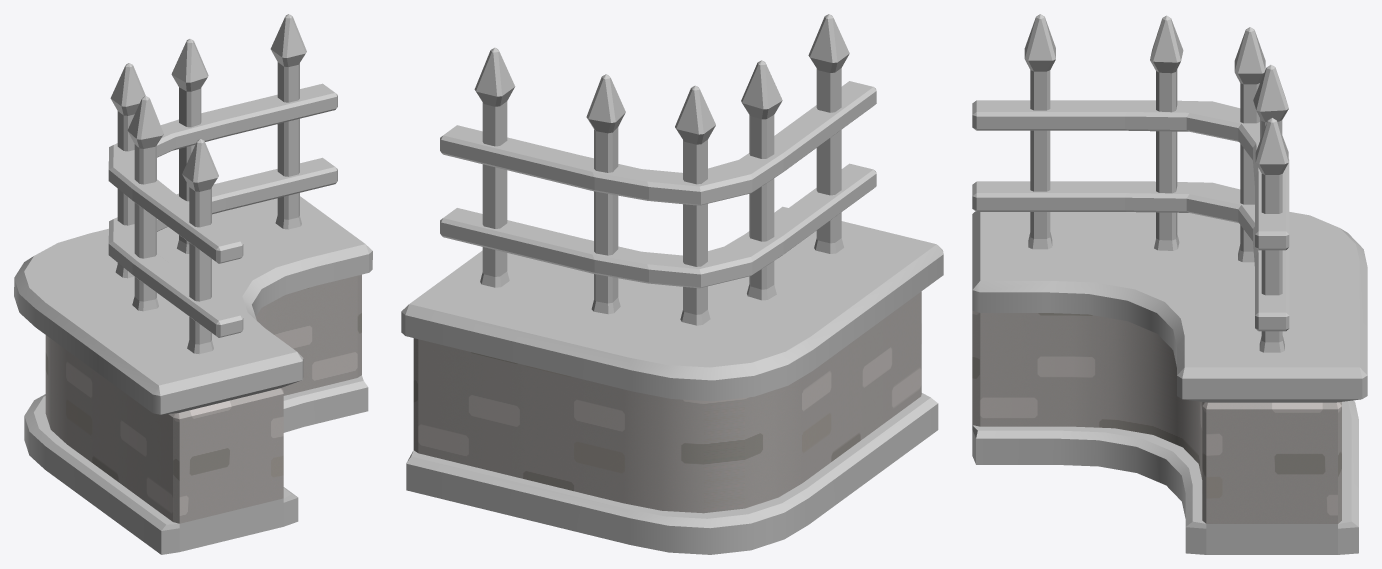
The model's file is BrickWall_5_2.fbx.
The picture shows the model from 3 angles, left to right: view 1: azimuth 30°, elevation 25°; view 2: azimuth 150°, elevation 25°; view 3: azimuth 270°, elevation 25°; orthographic projection. The views are drawn at different scales.
Visible parts, largest first — view 1: BrickWall_5_2; view 2: BrickWall_5_2; view 3: BrickWall_5_2.
Part boxes in pixels (box(x1,y1,x2,y2)): BrickWall_5_2: box(14, 14, 372, 554); BrickWall_5_2: box(401, 14, 943, 554); BrickWall_5_2: box(972, 14, 1367, 554).
Size of the model in its own units: 132 by 152 by 132.
